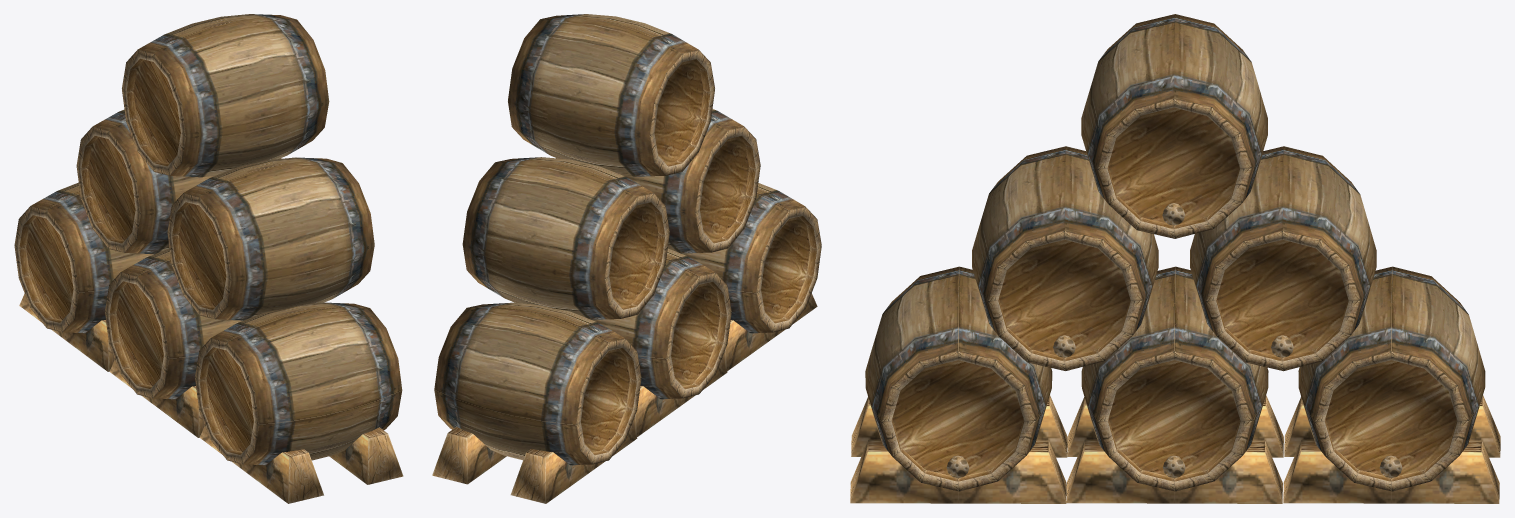
Rendered from specular_barrel_stack.obj.
3 views of the same model, side by side, from view 1: azimuth 30°, elevation 25°; view 2: azimuth 150°, elevation 25°; view 3: azimuth 270°, elevation 25° (orthographic). The views are drawn at different scales.
Visible parts, largest first — view 1: barrel_stack:pasted__Geoset2; view 2: barrel_stack:pasted__Geoset2; view 3: barrel_stack:pasted__Geoset2.
Part boxes in pixels (bbox=[...]): barrel_stack:pasted__Geoset2: bbox=[14, 14, 403, 503]; barrel_stack:pasted__Geoset2: bbox=[432, 14, 821, 503]; barrel_stack:pasted__Geoset2: bbox=[850, 14, 1500, 503].
Bounding box in the file's own units: 1.51 × 3.26 × 4.41.
4 materials, 4 textured.
